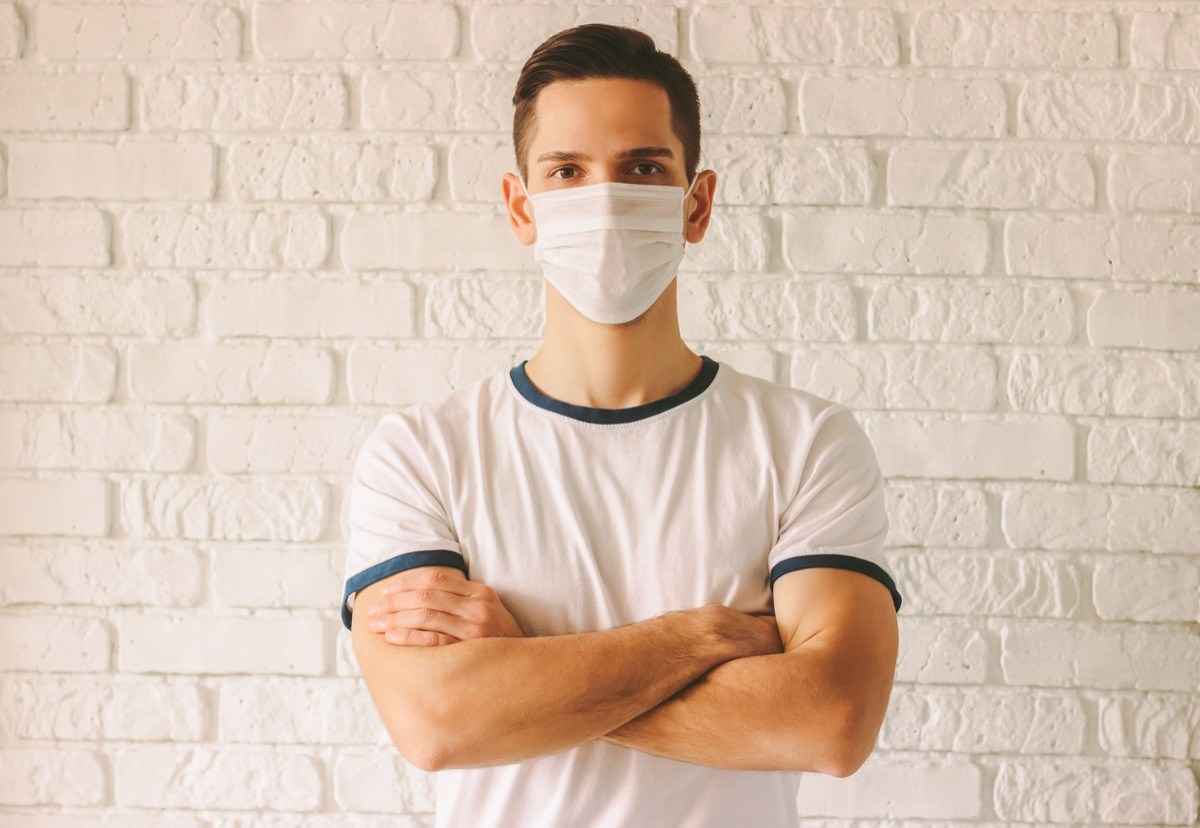mask: (509, 165, 709, 334)
